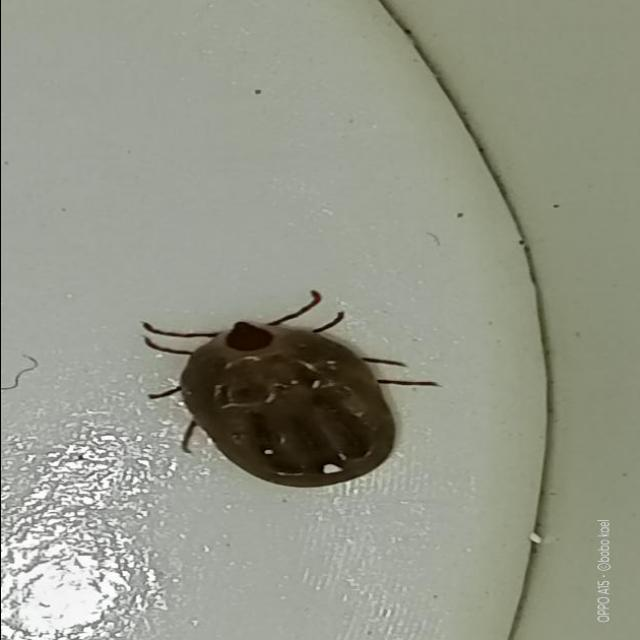Rhipicephalus Sanguineus-F-Fed: (141, 290, 441, 489)
